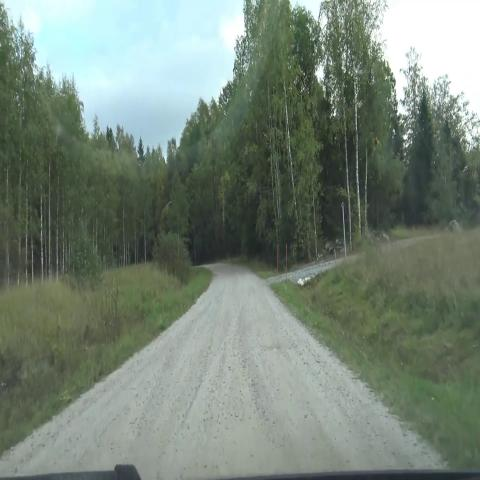pothole: (258, 334, 293, 370)
